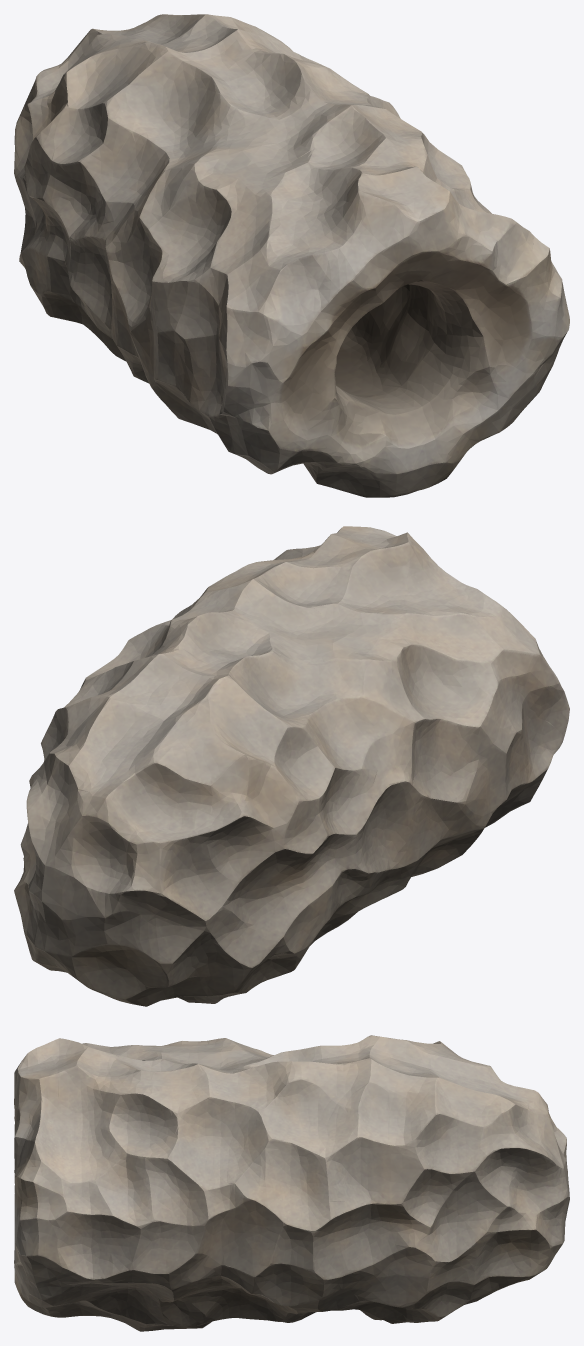
3 renders of one model, top to bottom at view 1: azimuth 30°, elevation 25°; view 2: azimuth 150°, elevation 25°; view 3: azimuth 270°, elevation 25°, orthographic. The views are drawn at different scales.
Visible parts, largest first — view 1: world; view 2: world; view 3: world.
Boxes of the visible parts, box(x1,y1,x2,y2) form: world: box(14, 14, 569, 497); world: box(14, 526, 569, 1006); world: box(14, 1035, 569, 1331).
Bounding box in the file's own units: 0.6076 × 0.5357 × 0.9998.
Materials: 1 (1 with a texture image).
